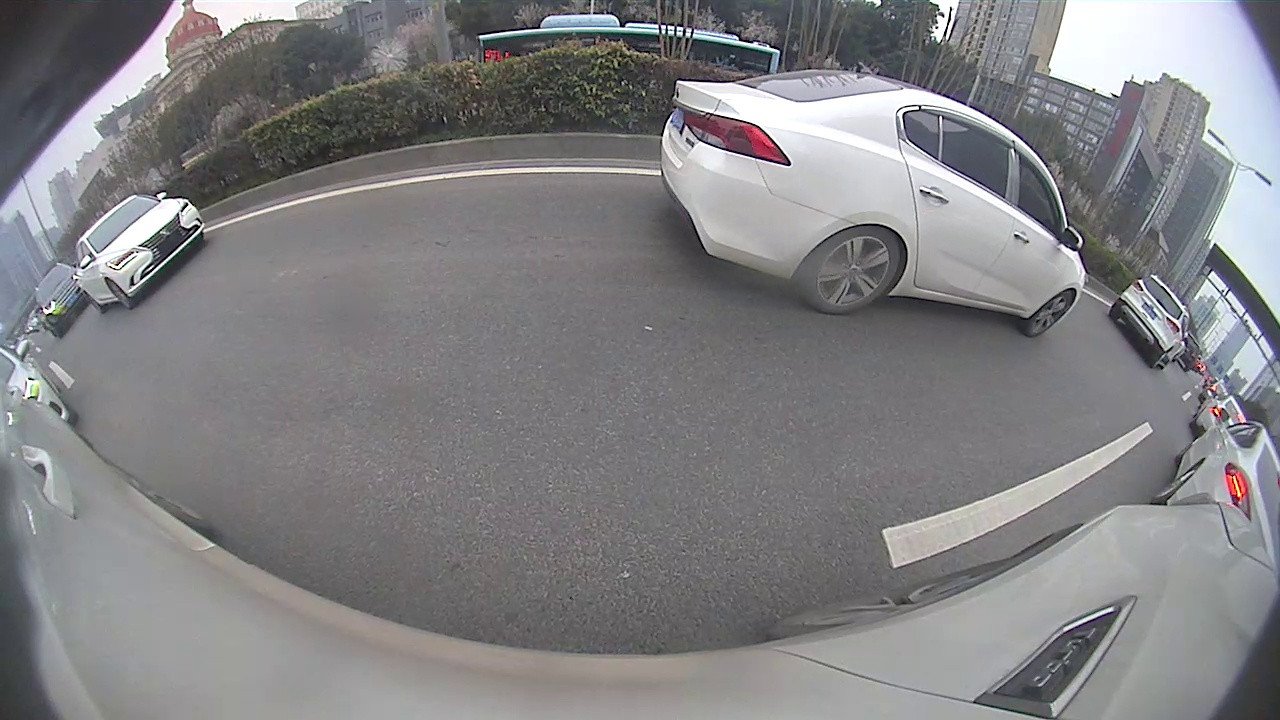car: (659, 59, 1089, 340), (1151, 405, 1279, 543), (72, 190, 207, 314), (1108, 271, 1194, 372)
front: (1024, 288, 1075, 341), (104, 280, 133, 312)
rear: (804, 224, 901, 313)
